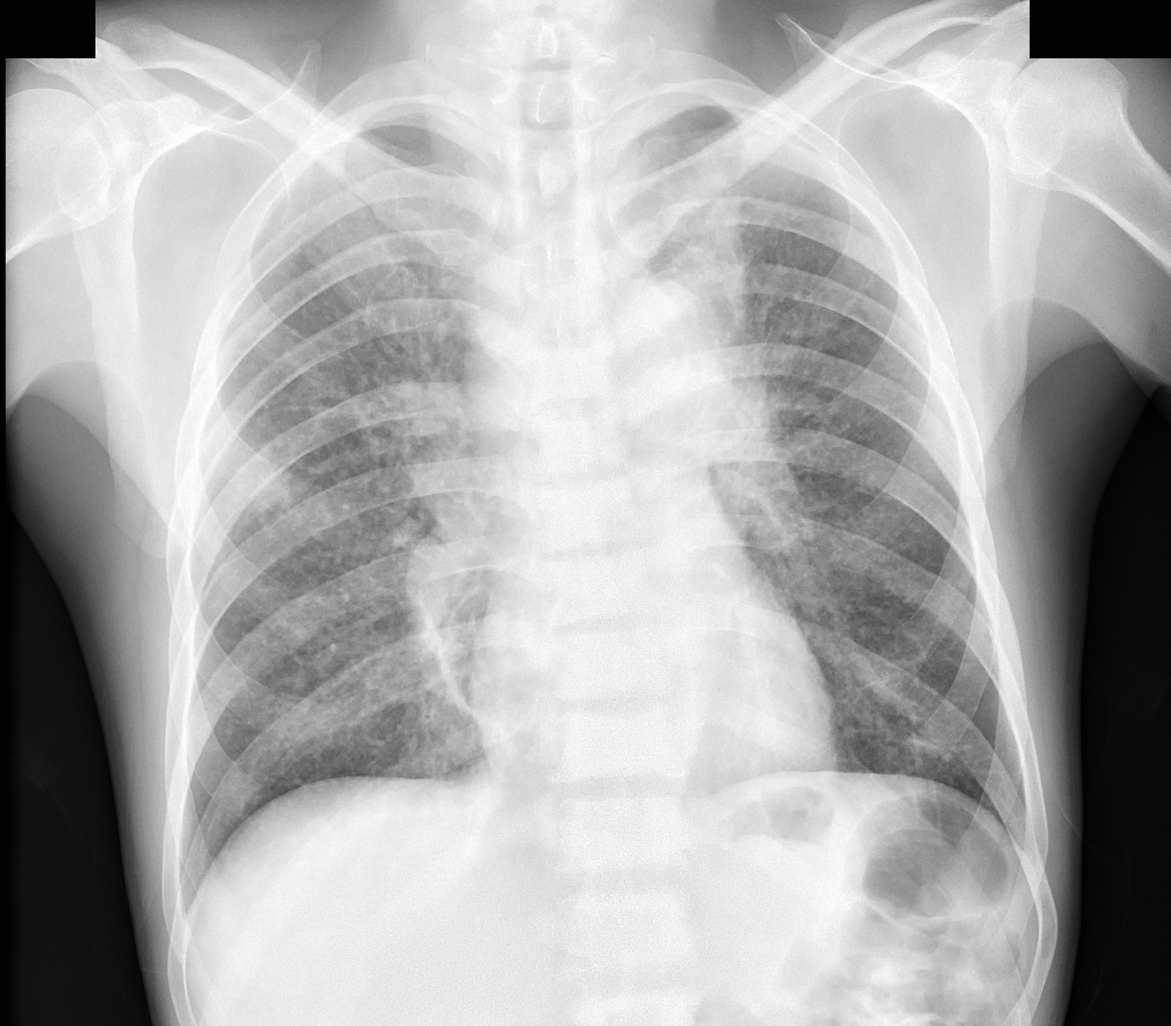Aortic enlargement: (574, 282, 703, 446)
Pleural thickening: (366, 101, 462, 122)
Pulmonary fibrosis: (413, 590, 491, 733)
